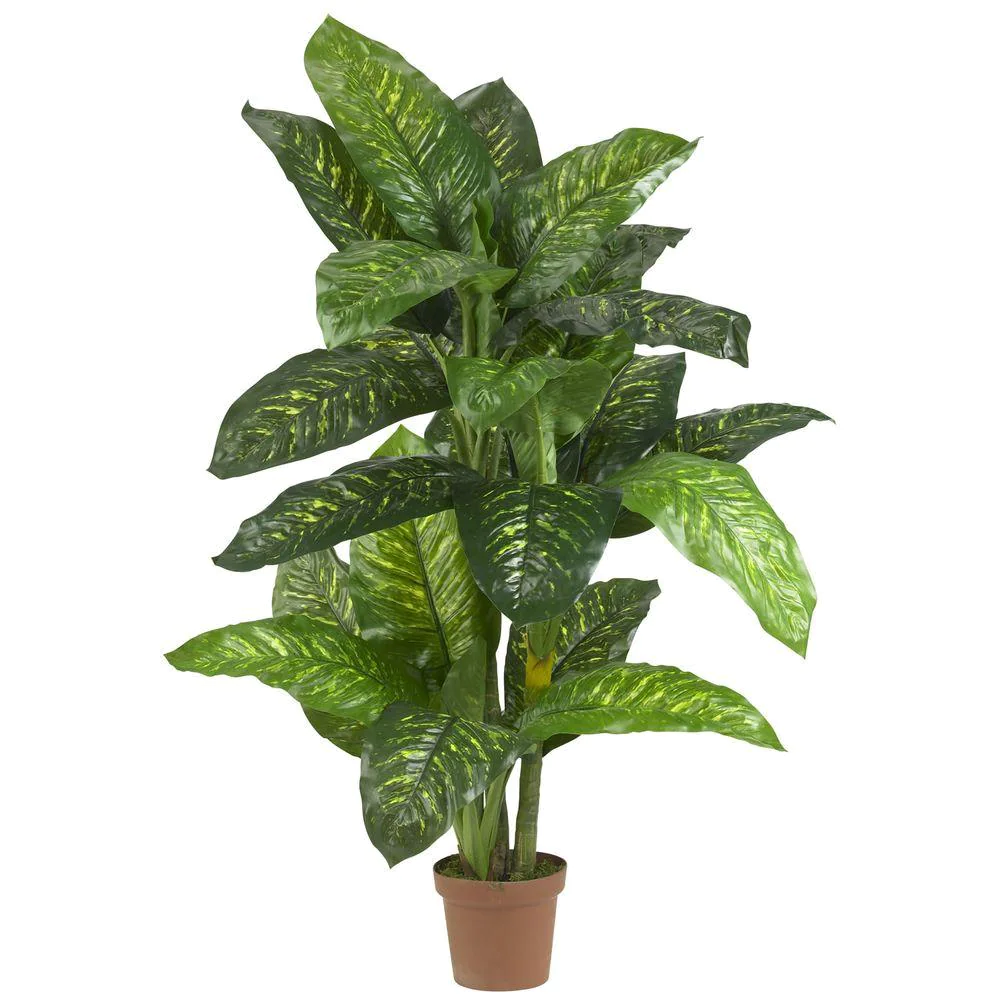tanaman: (205, 74, 773, 989)
